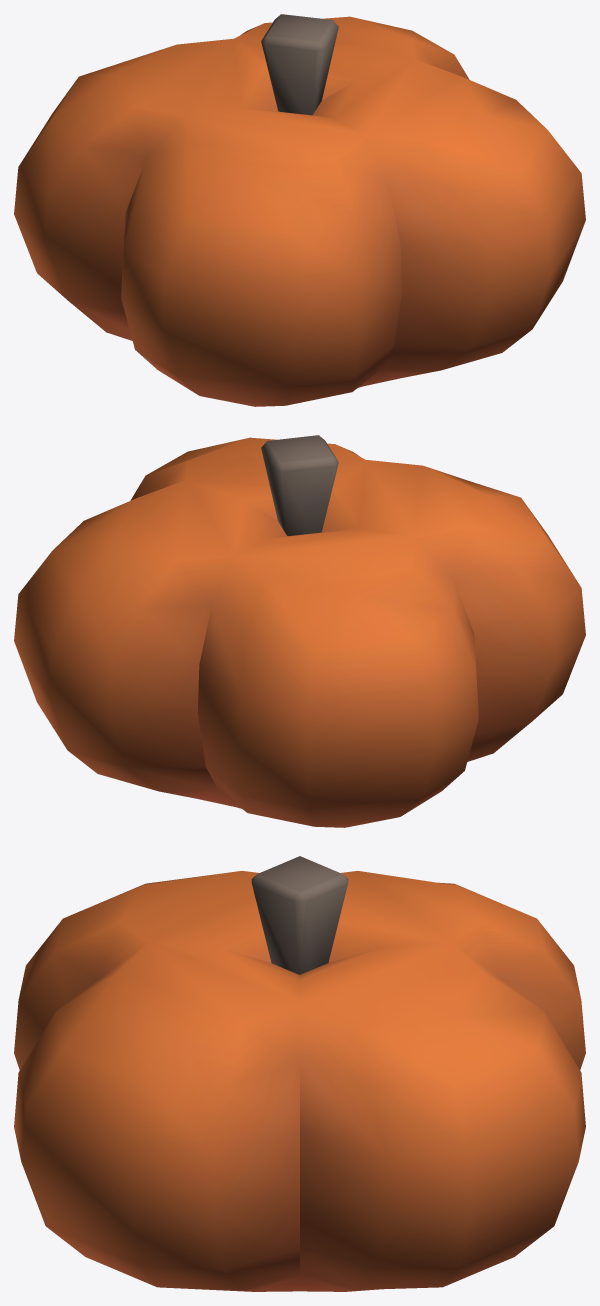
Rendered from pumpkin_orange.glb.
3 renders of one model, top to bottom at view 1: azimuth 30°, elevation 25°; view 2: azimuth 150°, elevation 25°; view 3: azimuth 270°, elevation 25°, orthographic. The views are drawn at different scales.
Parts seen in each view (by area): view 1: pumpkin_orange; view 2: pumpkin_orange; view 3: pumpkin_orange.
Part boxes in pixels (bbox=[...]): pumpkin_orange: bbox=[14, 14, 585, 406]; pumpkin_orange: bbox=[14, 435, 585, 827]; pumpkin_orange: bbox=[14, 856, 585, 1291].
Size of the model in its own units: 1 by 0.7 by 1.
1 material, 1 textured.
